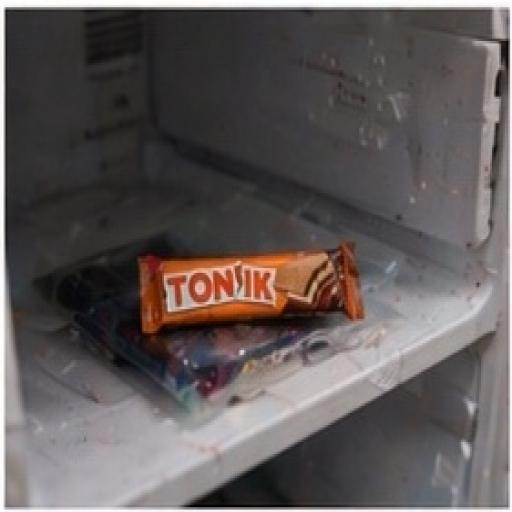tonik: (91, 142, 415, 413)
